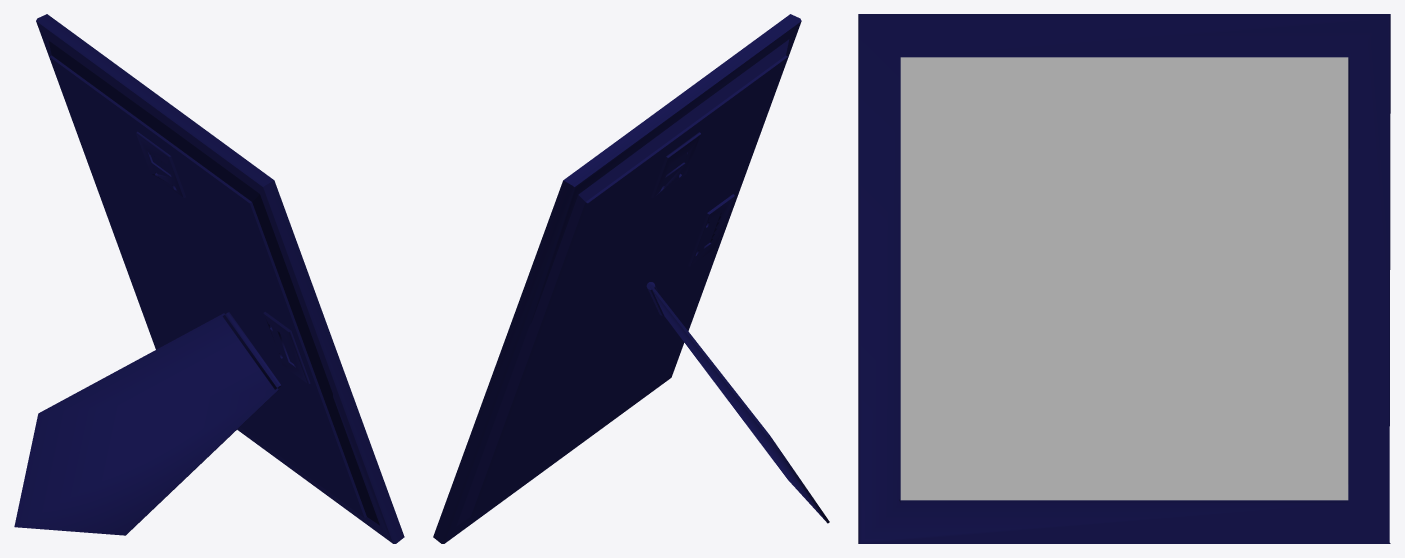
File: frame.fbx
3 renders of one model, left to right at view 1: azimuth 30°, elevation 25°; view 2: azimuth 150°, elevation 25°; view 3: azimuth 270°, elevation 25°, orthographic. The views are drawn at different scales.
Parts seen in each view (by area): view 1: PictureFrame; view 2: PictureFrame; view 3: Cube, PictureFrame.
Boxes of the visible parts, x1,y1,x2,y2 form: PictureFrame: [14, 14, 404, 543]; PictureFrame: [433, 14, 829, 543]; Cube: [900, 57, 1348, 500]; PictureFrame: [858, 14, 1390, 543].
Bounding box in the file's own units: 355 × 476 × 501.
